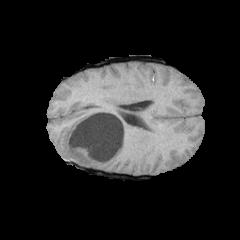glioma: (56, 104, 129, 167)
